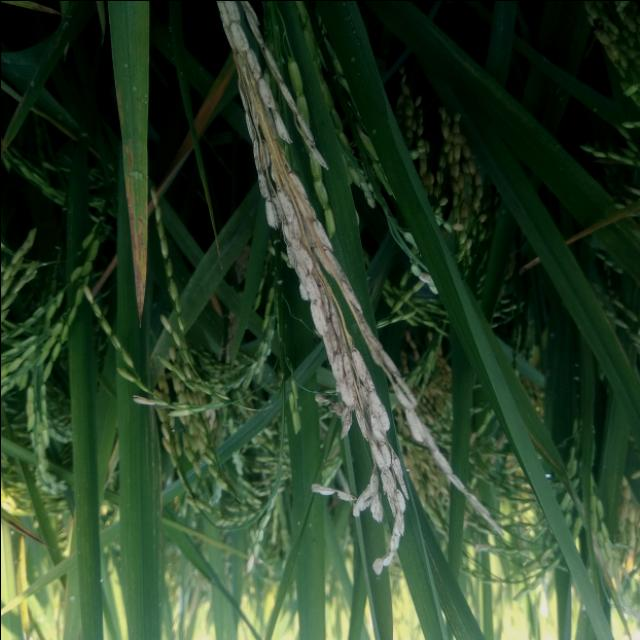Brown spot: (121, 186, 154, 334)
